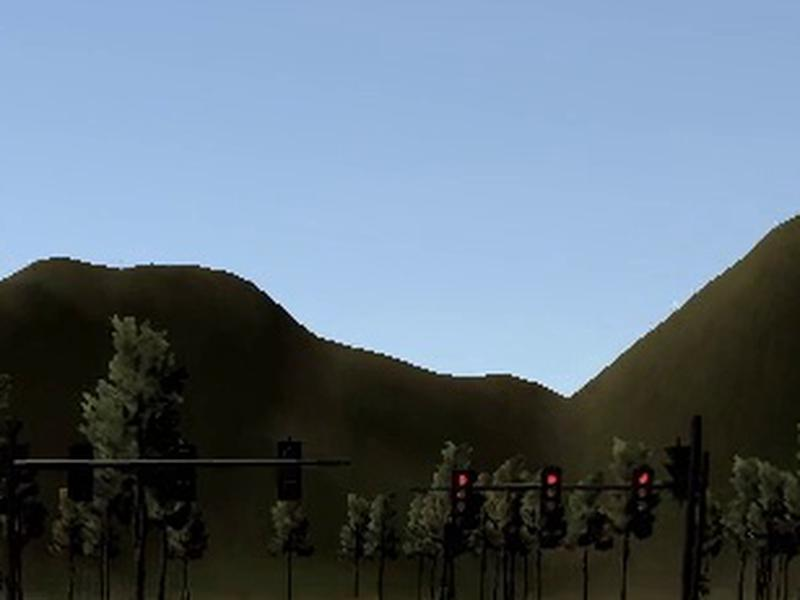Red: (632, 465, 654, 518), (540, 467, 560, 521), (452, 471, 471, 518)
